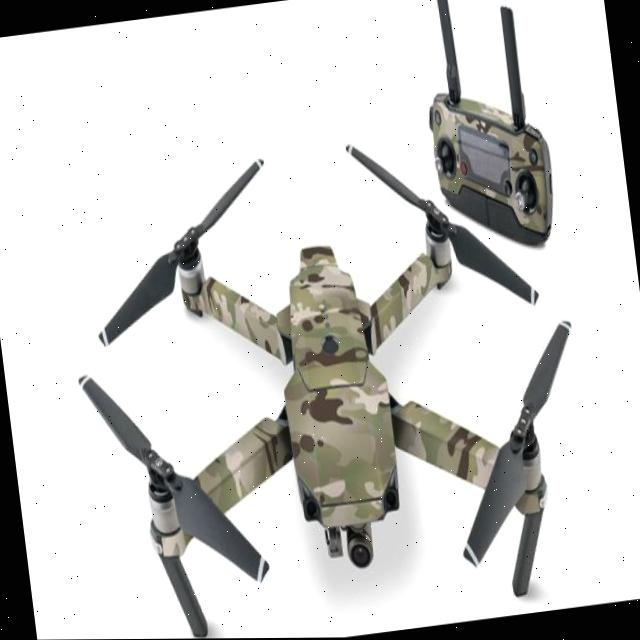drone: (66, 114, 599, 640)
